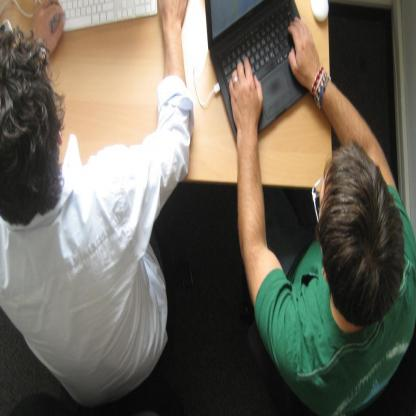board: (204, 0, 310, 145)
